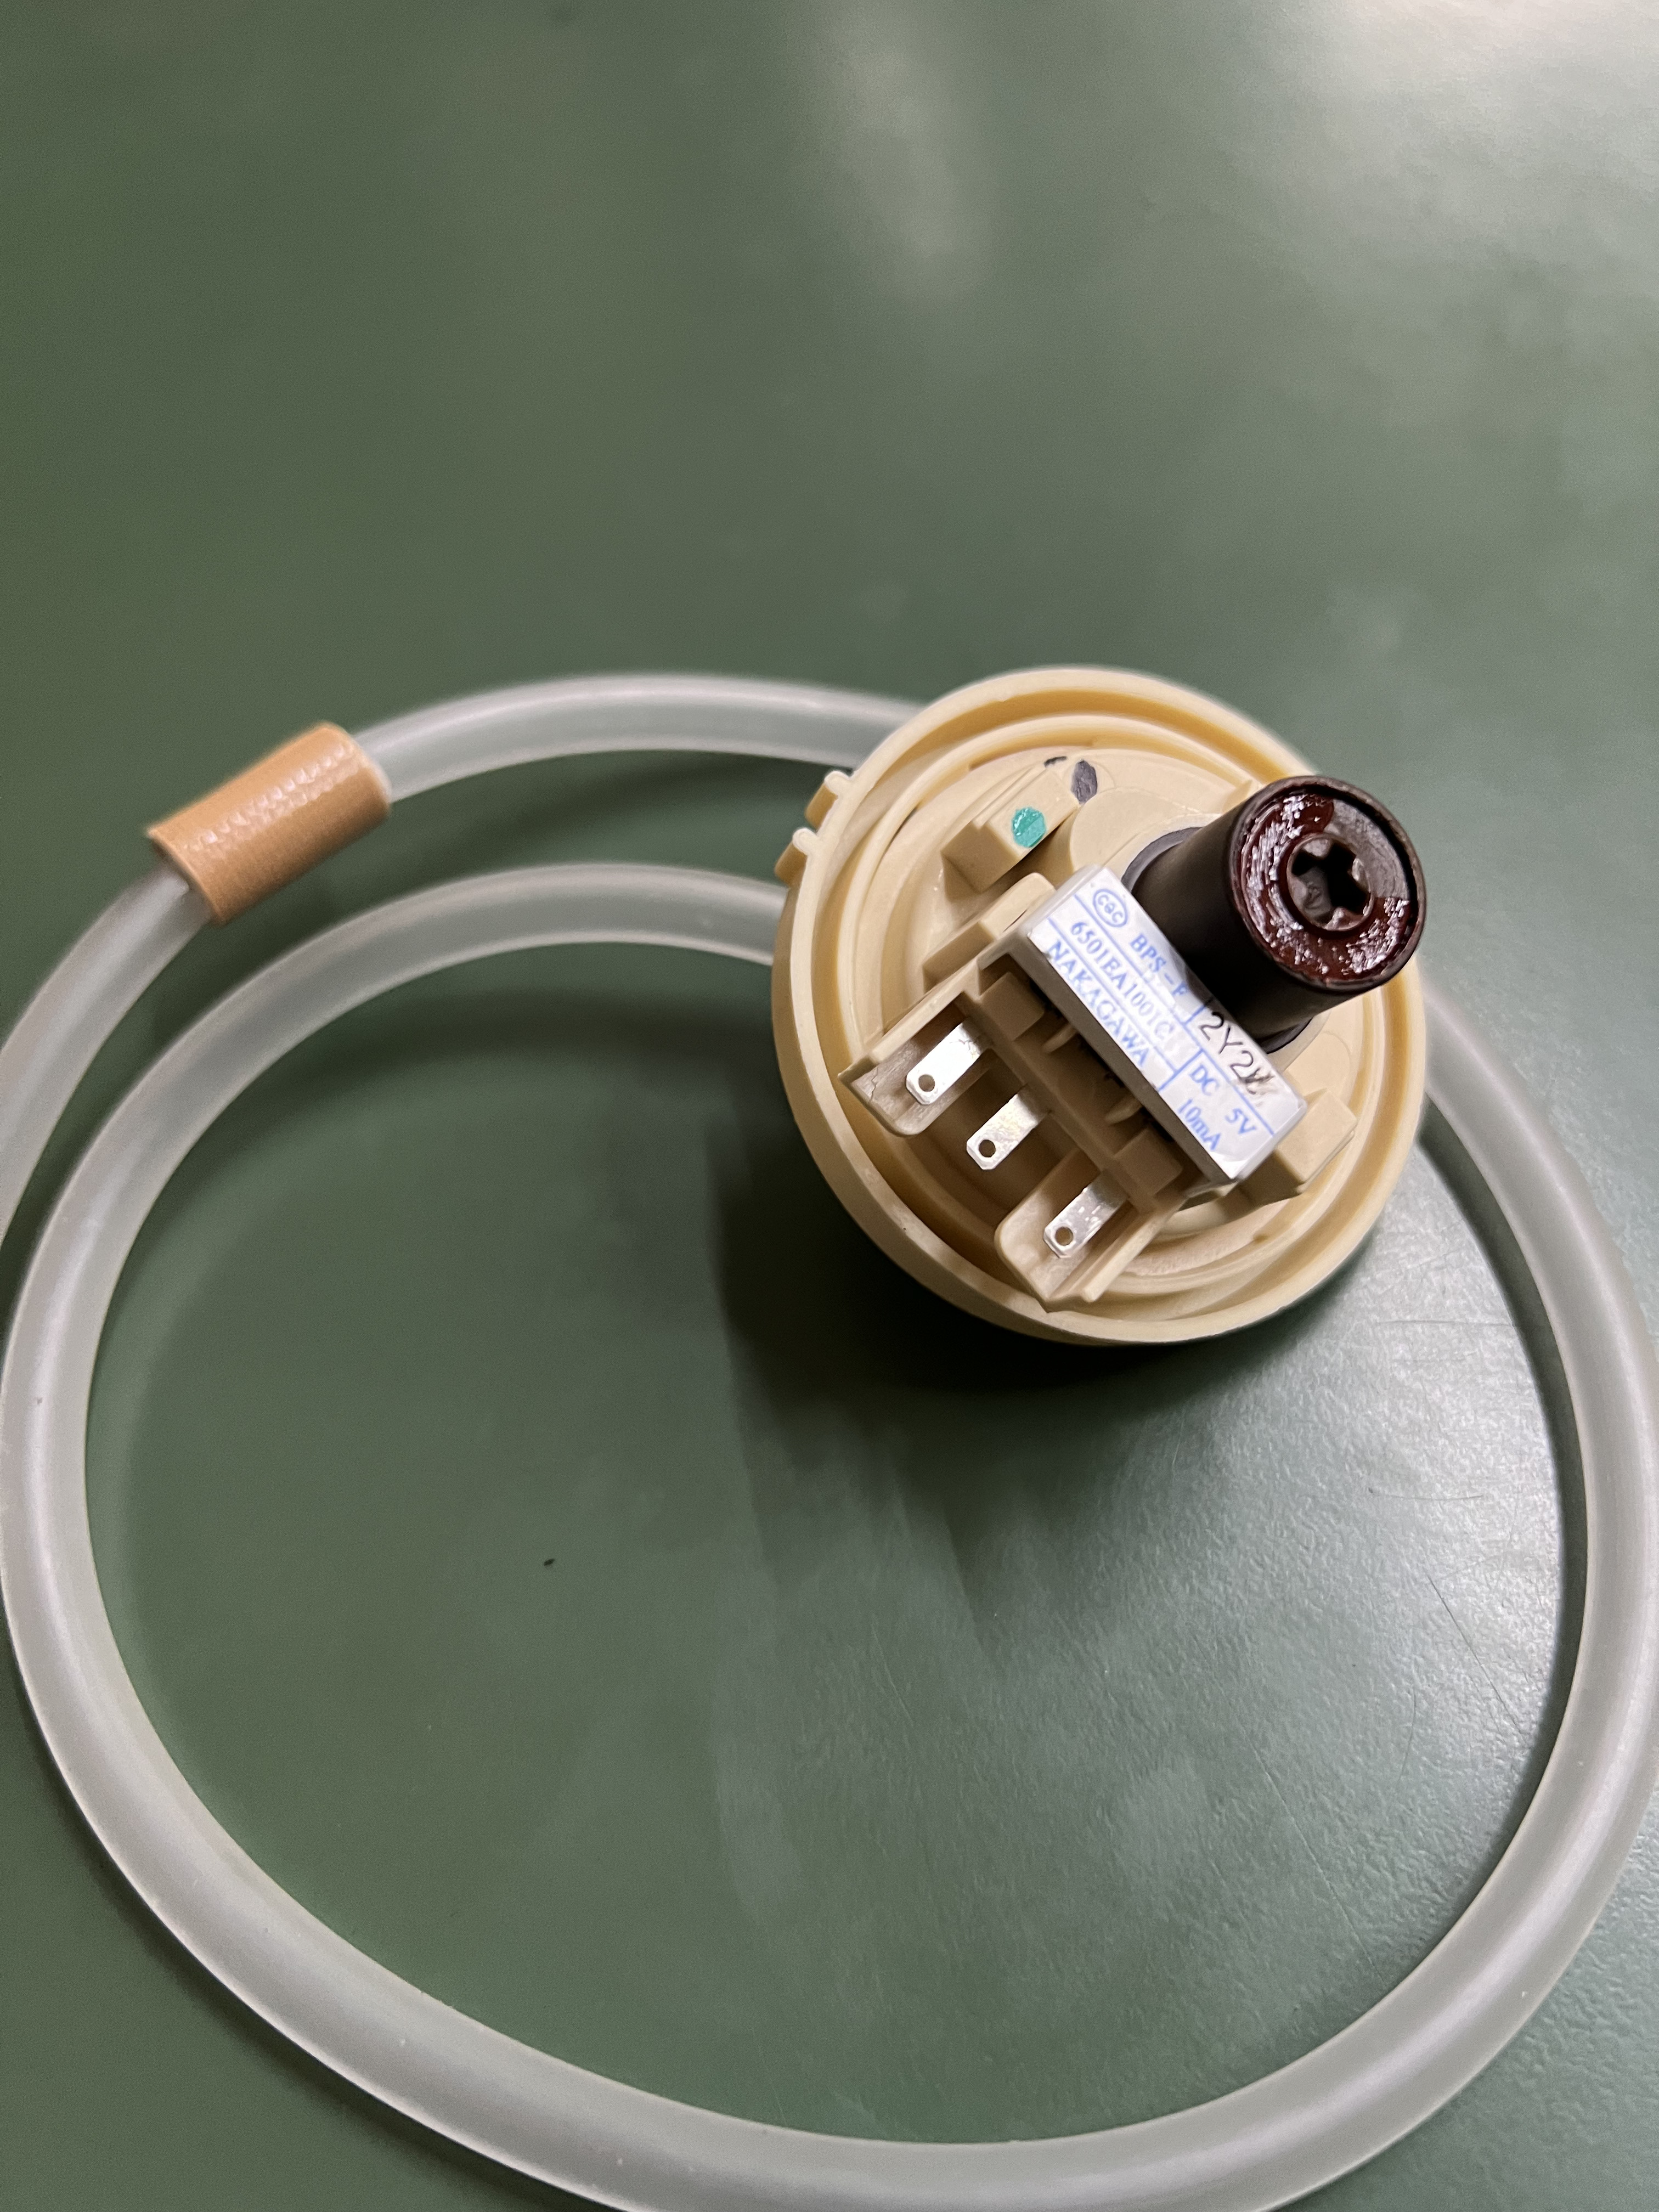pressure_sensor: (26, 641, 1659, 2212)
